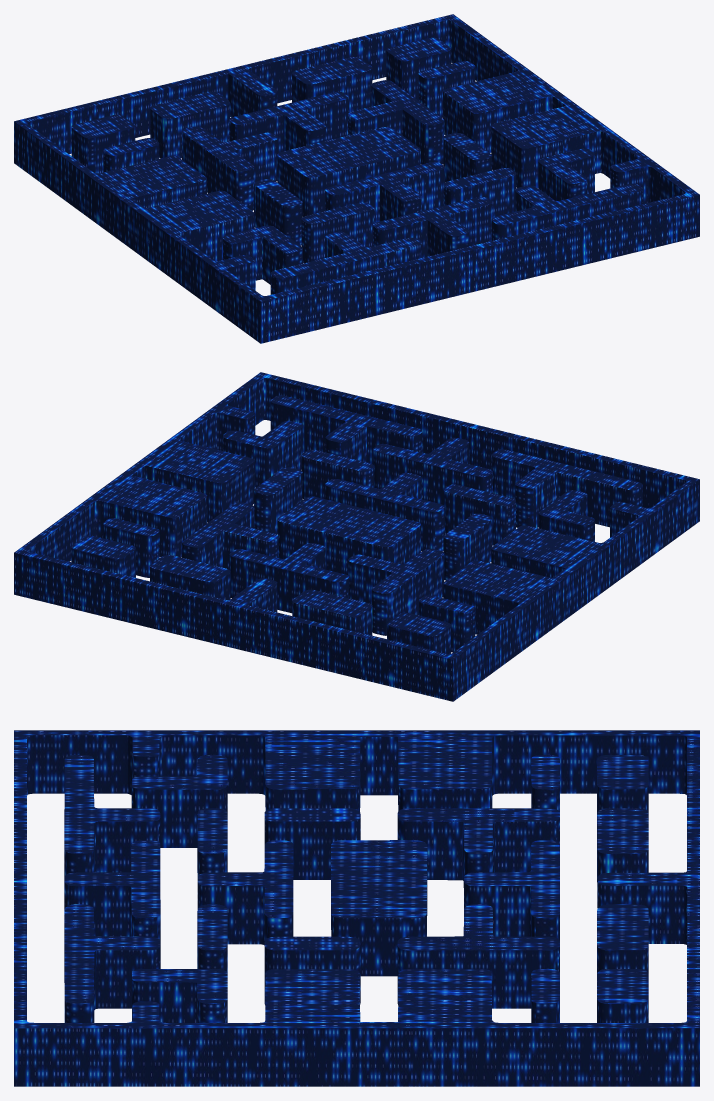
File: pacmanwalls.glb
3 renders of one model, top to bottom at view 1: azimuth 30°, elevation 25°; view 2: azimuth 150°, elevation 25°; view 3: azimuth 270°, elevation 25°, orthographic. The views are drawn at different scales.
Visible parts, largest first — view 1: Curve.001; view 2: Curve.001; view 3: Curve.001.
Part boxes in pixels (box(x1,y1,x2,y2)): Curve.001: box(14, 14, 699, 343); Curve.001: box(14, 372, 699, 701); Curve.001: box(14, 730, 699, 1086).
Size of the model in its own units: 61.28 by 5.59 by 59.62.
Materials: 1 (1 with a texture image).
